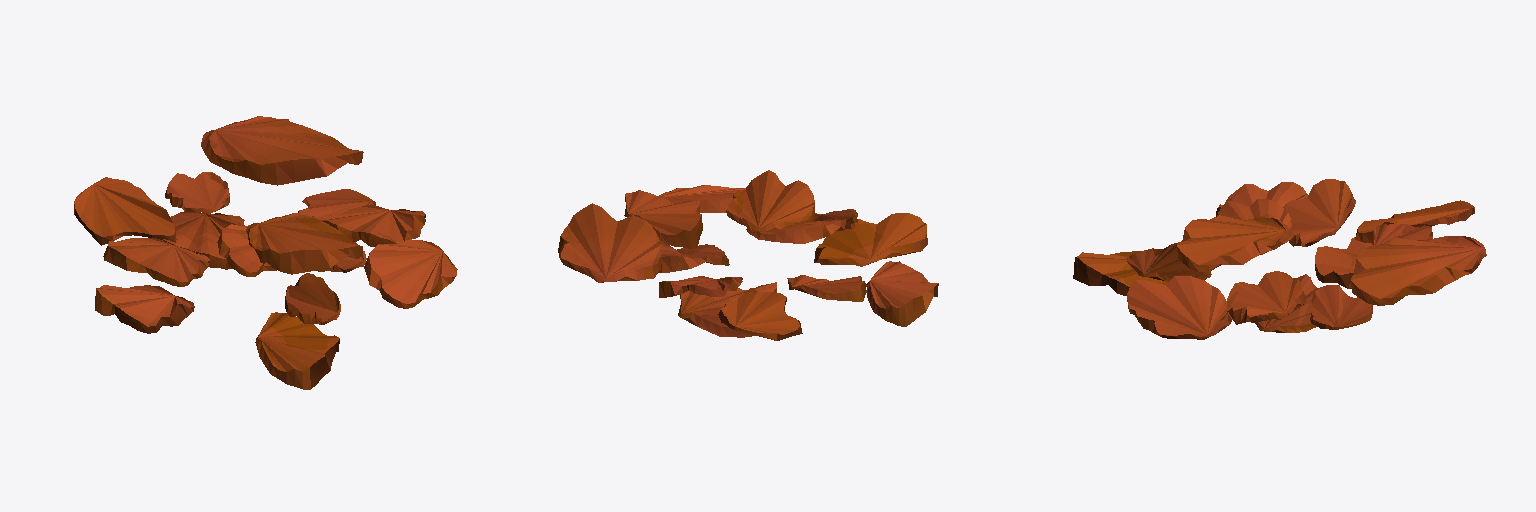
3 views of the same model, side by side, from view 1: azimuth 30°, elevation 25°; view 2: azimuth 150°, elevation 25°; view 3: azimuth 270°, elevation 25° (orthographic).
Parts seen in each view (by area): view 1: Cylinder.007; view 2: Cylinder.007; view 3: Cylinder.007.
Boxes of the visible parts, <box> form: Cylinder.007: <box>74,116,457,389</box>; Cylinder.007: <box>558,170,938,340</box>; Cylinder.007: <box>1073,179,1486,339</box>.
Size of the model in its own units: 4.68 by 1.33 by 5.38.
1 materials, 1 textured.